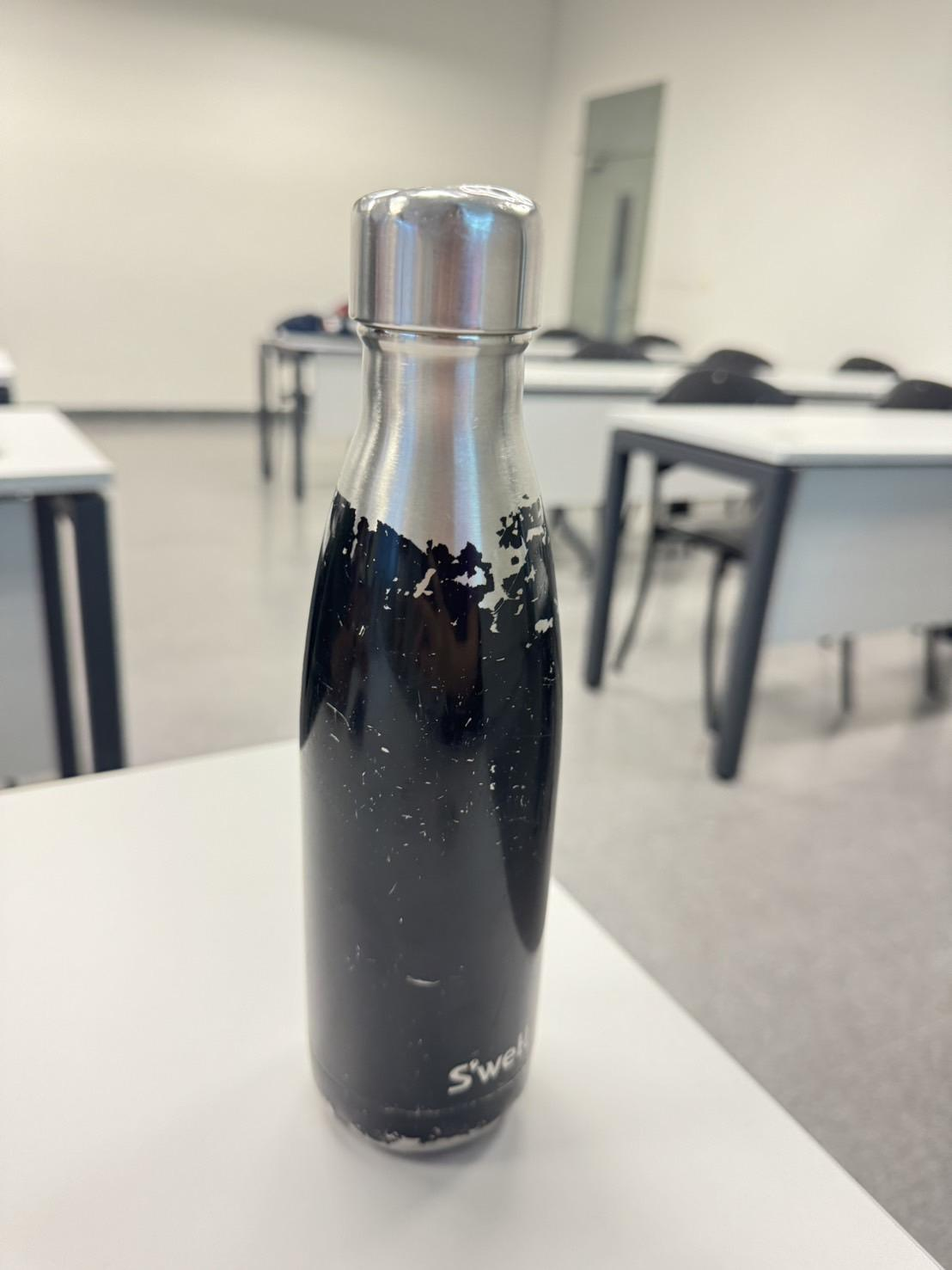Bottle: (299, 185, 561, 1150)
